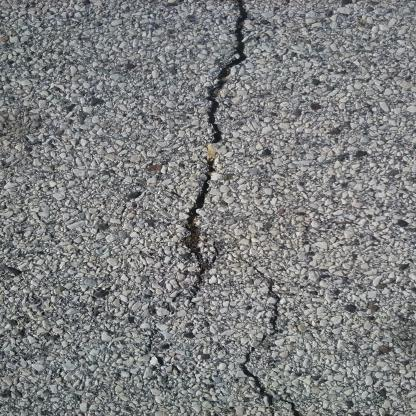Cracks: (169, 0, 260, 305), (236, 261, 313, 416)
